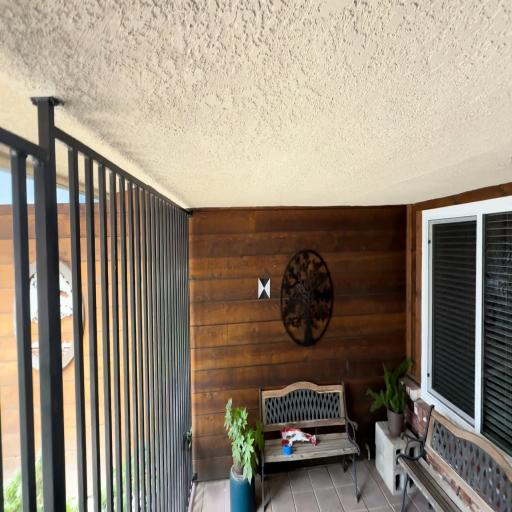target: (258, 278, 270, 298)
